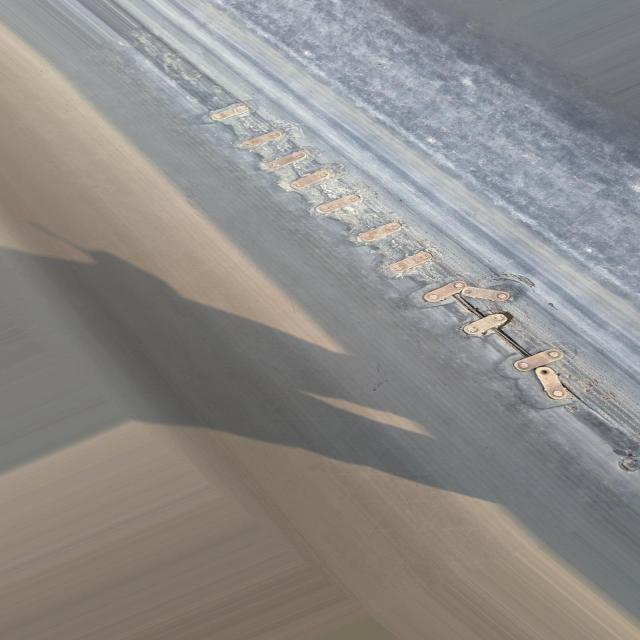patch work: (197, 82, 591, 413)
